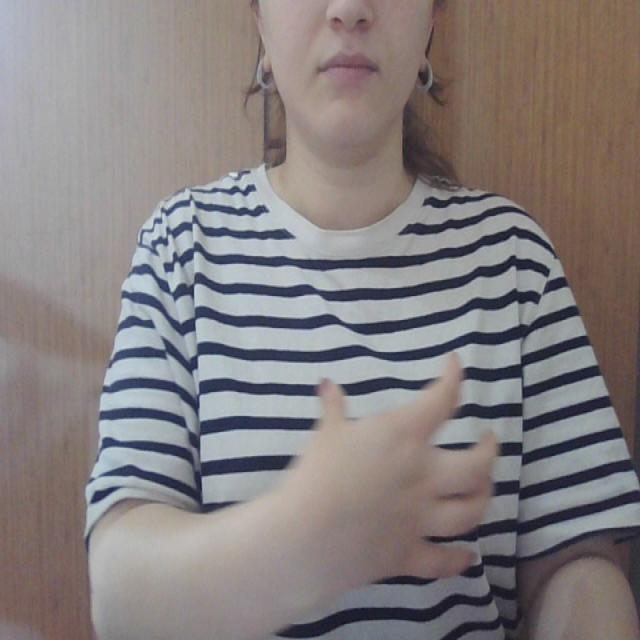Anne: (194, 359, 556, 588)
